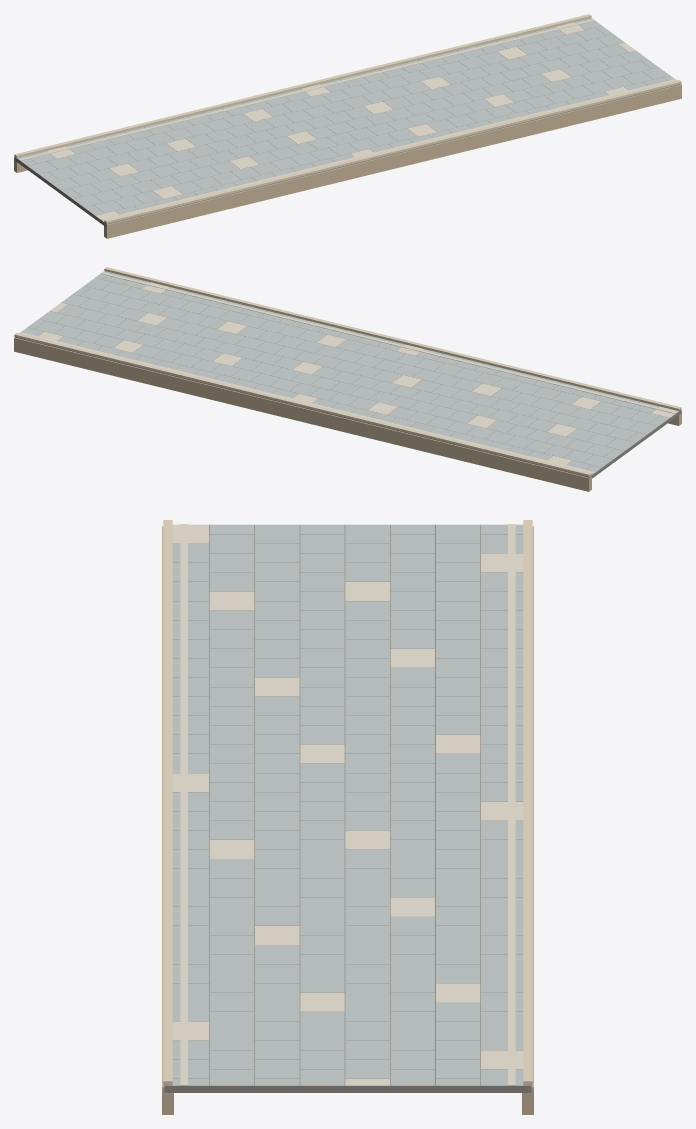
File: Promenade08.glb
3 views of the same model, one above another, from view 1: azimuth 30°, elevation 25°; view 2: azimuth 150°, elevation 25°; view 3: azimuth 270°, elevation 25° (orthographic). The views are drawn at different scales.
Visible parts, largest first — view 1: Promenade08; view 2: Promenade08; view 3: Promenade08.
Boxes of the visible parts, x1=… form: Promenade08: x1=14, y1=14, x2=681, y2=238; Promenade08: x1=14, y1=267, x2=681, y2=491; Promenade08: x1=162, y1=520, x2=533, y2=1114.
Bounding box in the file's own units: 45.52 × 1.27 × 12.76.
